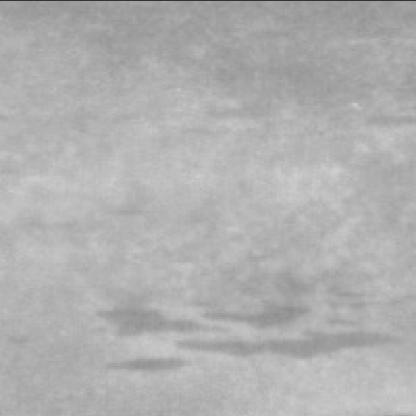inclusion: (87, 278, 405, 373)
